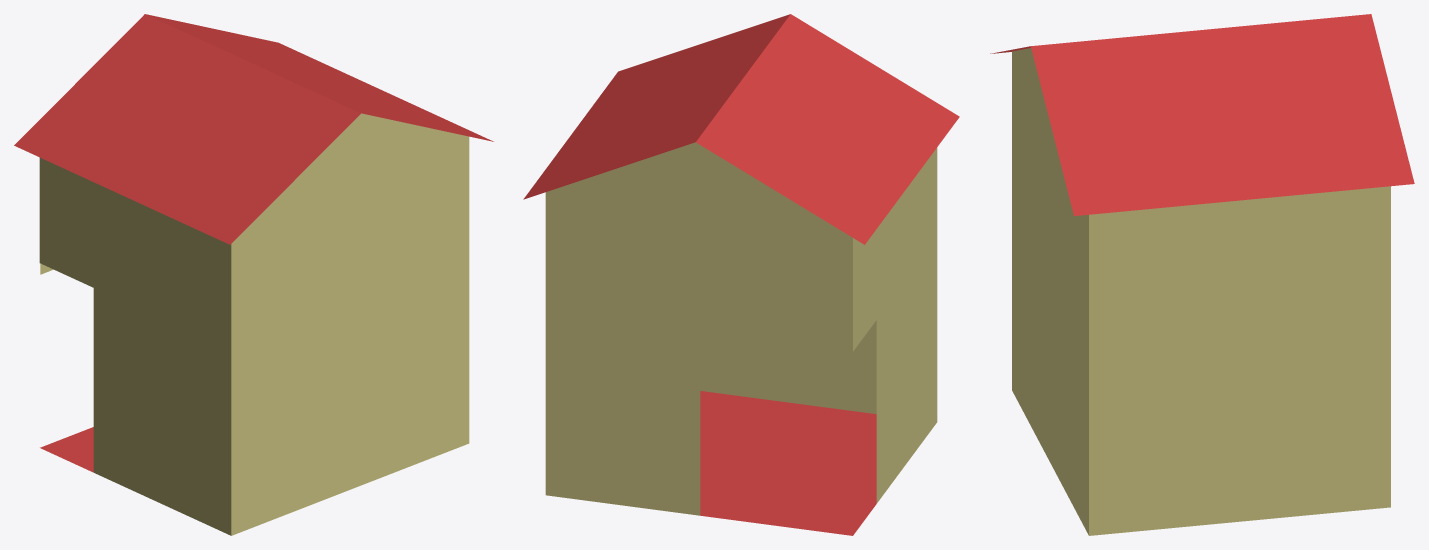
The picture shows the model from 3 angles, left to right: view 1: azimuth 30°, elevation 25°; view 2: azimuth 150°, elevation 25°; view 3: azimuth 270°, elevation 25°; orthographic projection. The views are drawn at different scales.
Size of the model in its own units: 11.6 by 10.77 by 11.64.
